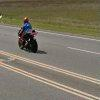Motorcycle: (8, 22, 47, 55)
